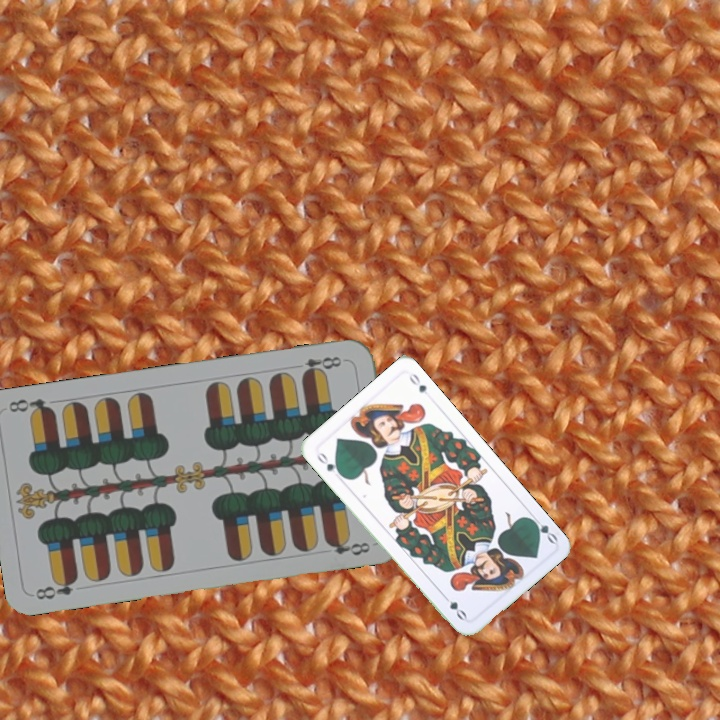E8: (31, 573, 80, 603), (298, 352, 344, 379)
GO: (526, 511, 560, 546), (313, 447, 345, 479)
